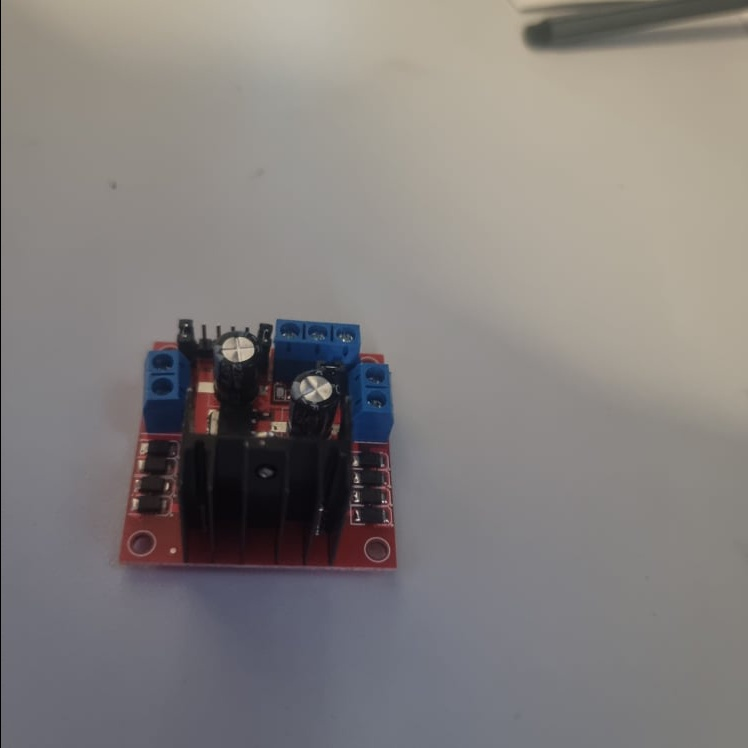MOTOR: (114, 312, 394, 575)
